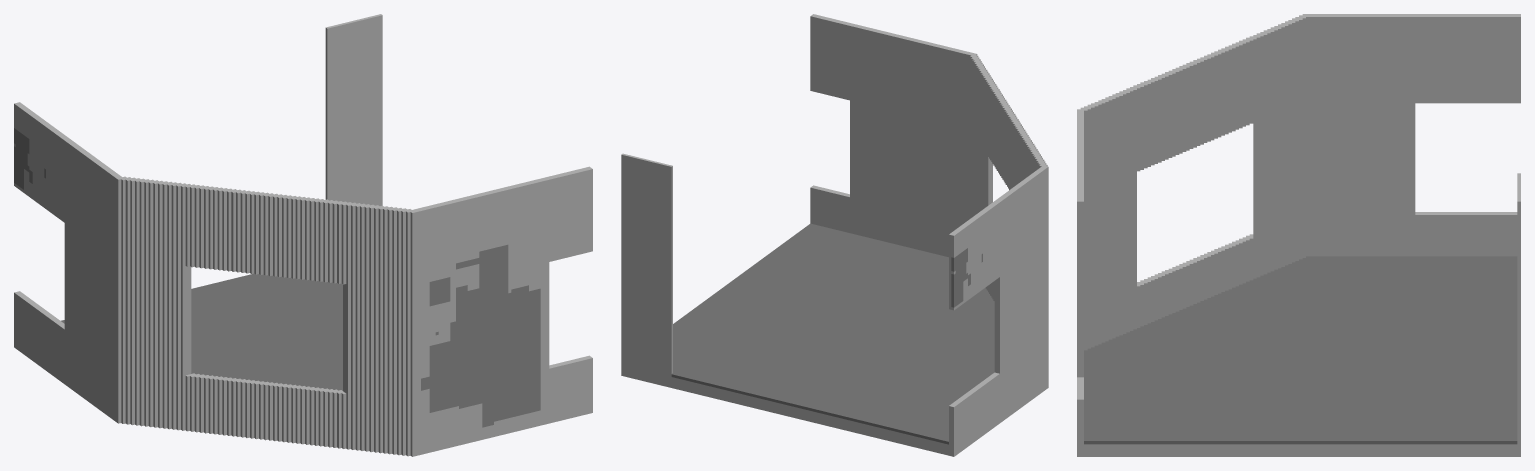
Rendered from 4x2 third (1)-1.obj.
3 renders of one model, left to right at view 1: azimuth 30°, elevation 25°; view 2: azimuth 150°, elevation 25°; view 3: azimuth 270°, elevation 25°, orthographic. The views are drawn at different scales.
Parts seen in each view (by area): view 1: 4x2 third (1)-1; view 2: 4x2 third (1)-1; view 3: 4x2 third (1)-1.
Part boxes in pixels (x1,y1,x2,y2): 4x2 third (1)-1: (14, 14, 592, 456); 4x2 third (1)-1: (621, 14, 1048, 456); 4x2 third (1)-1: (1077, 14, 1520, 456).
Bounding box in the file's own units: 126 × 80 × 126.
1 material, 1 textured.
